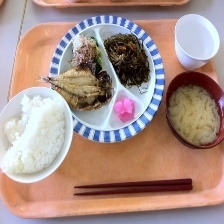rice: (0, 92, 71, 177)
